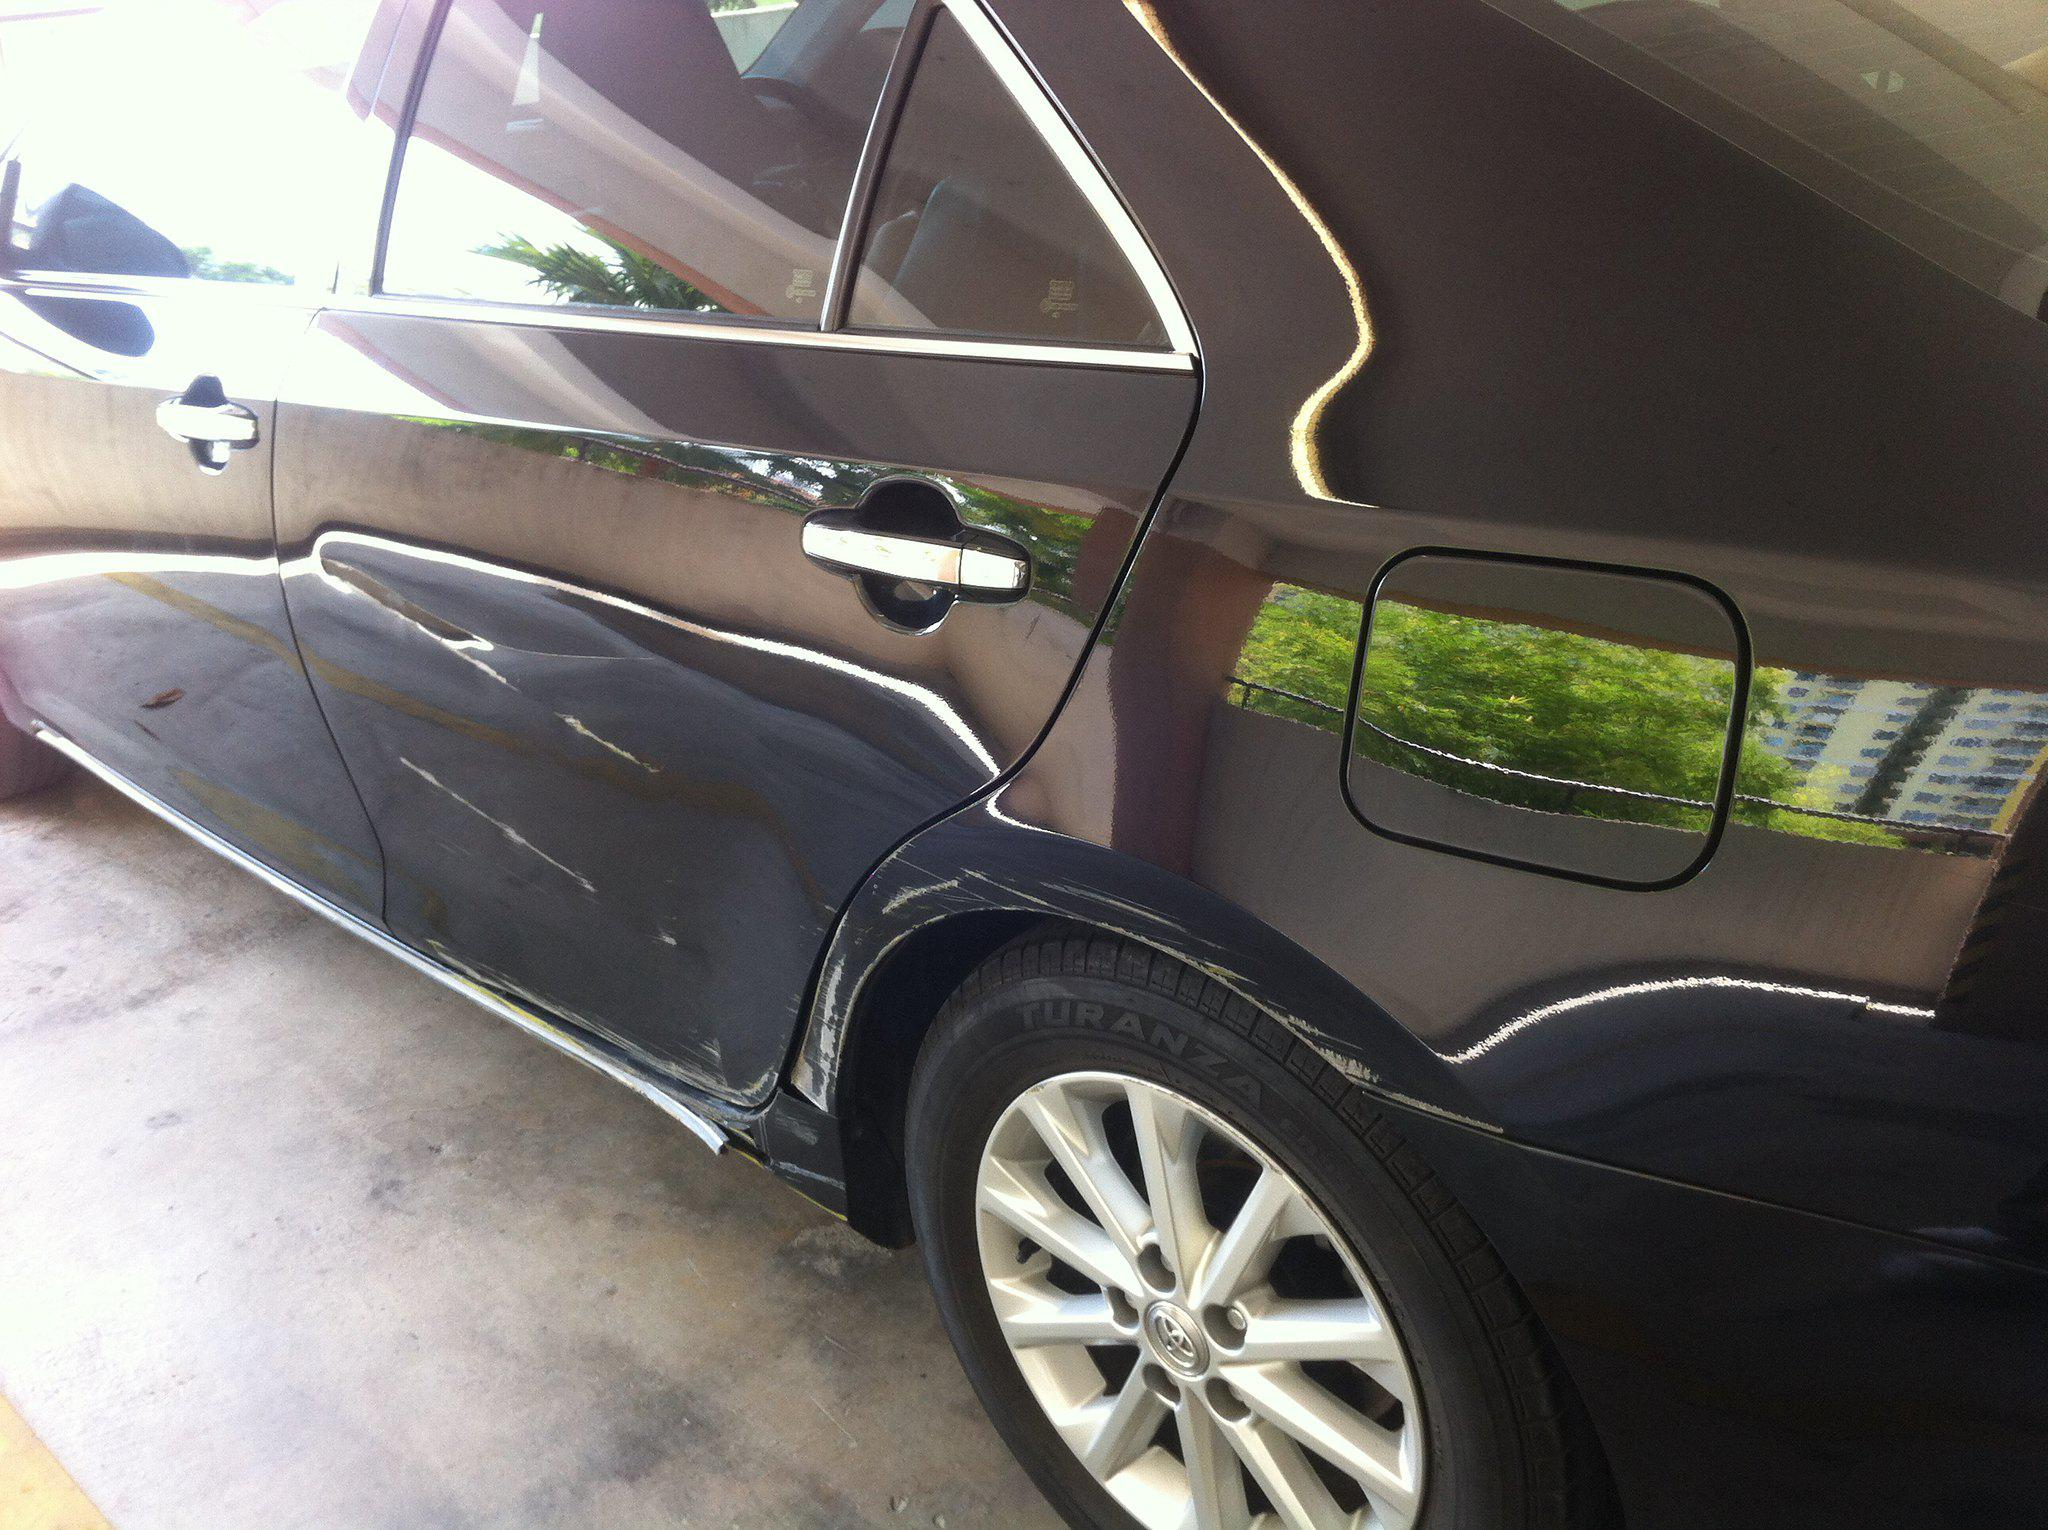RunningBoard-Dent: (265, 956, 829, 1183)
quaterpanel-dent: (868, 738, 1894, 1307)
